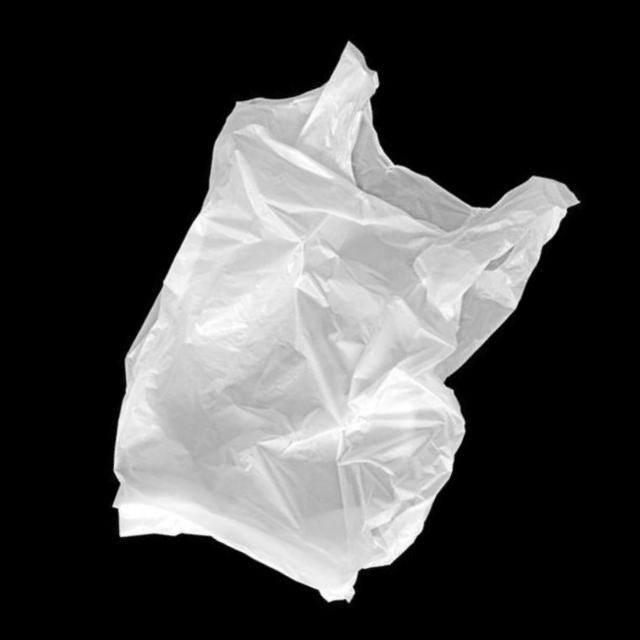KantongPlastik: (65, 4, 607, 640)
